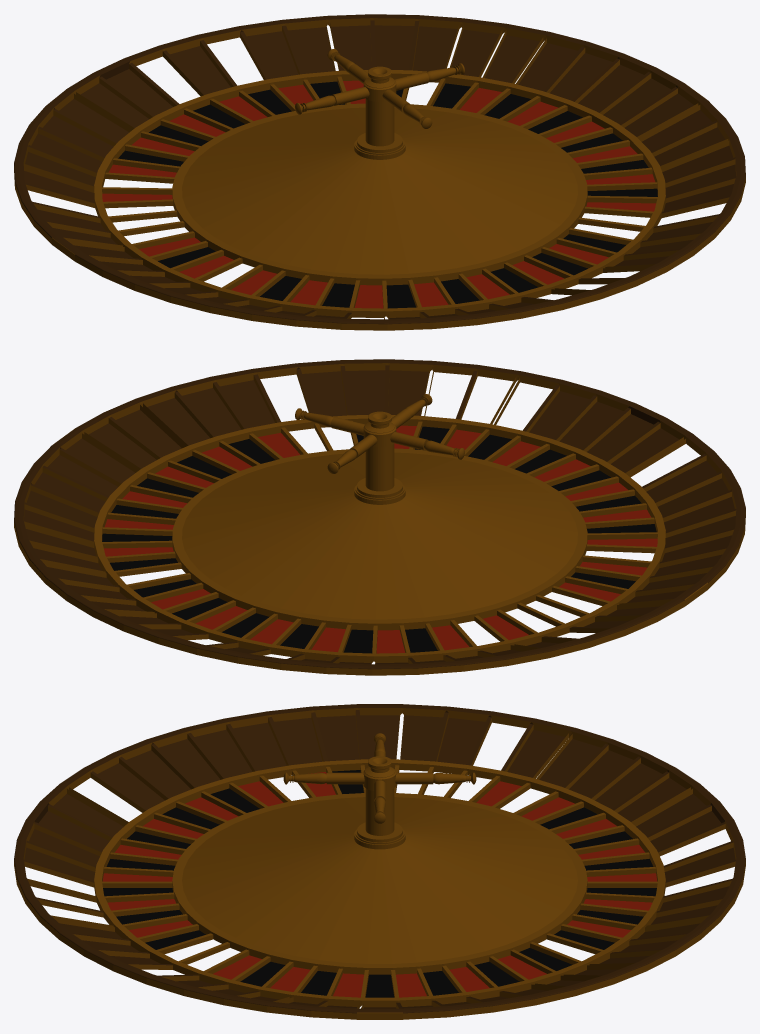
The model's file is Roulette Wheel (Middle).fbx.
3 views of the same model, one above another, from view 1: azimuth 30°, elevation 25°; view 2: azimuth 150°, elevation 25°; view 3: azimuth 270°, elevation 25° (orthographic).
Visible parts, largest first — view 1: Circle, Cylinder, Cylinder.001; view 2: Circle, Cylinder, Cylinder.001; view 3: Circle, Cylinder.001, Cylinder.
Part boxes in pixels (x1,y1,x2,y2): Circle: (14, 14, 745, 330); Cylinder: (295, 63, 464, 114); Cylinder.001: (327, 49, 432, 128); Circle: (14, 359, 745, 675); Cylinder: (295, 408, 464, 459); Cylinder.001: (327, 394, 432, 473); Circle: (14, 704, 745, 1019); Cylinder.001: (283, 772, 476, 784); Cylinder: (374, 733, 385, 823).
Bounding box in the file's own units: 890 × 170 × 892.
